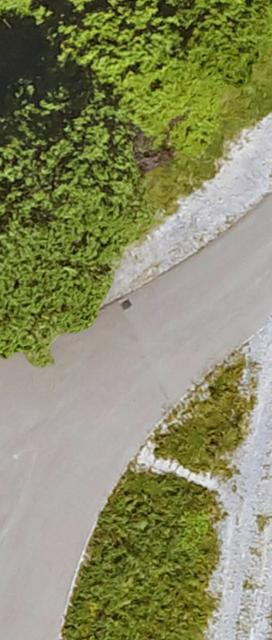tree: (1, 84, 140, 356), (60, 0, 264, 138)
